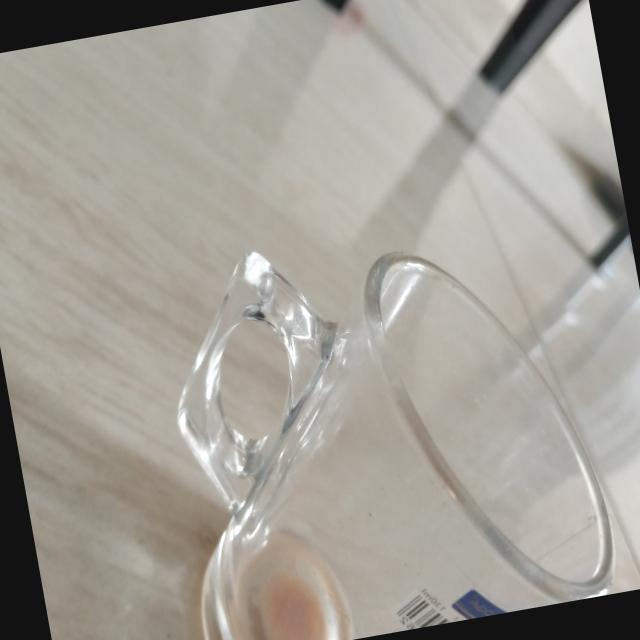glass-VX4N: (129, 195, 630, 640)
